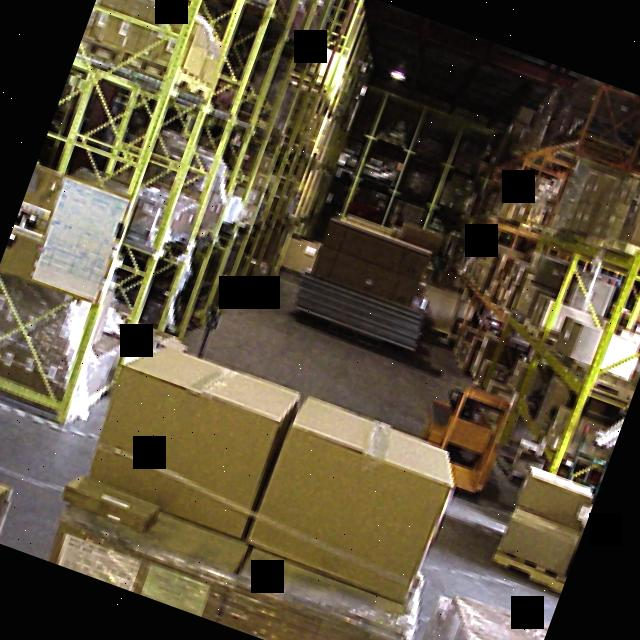box: (70, 330, 298, 538), (242, 394, 458, 602), (82, 0, 234, 91), (497, 494, 588, 580)
